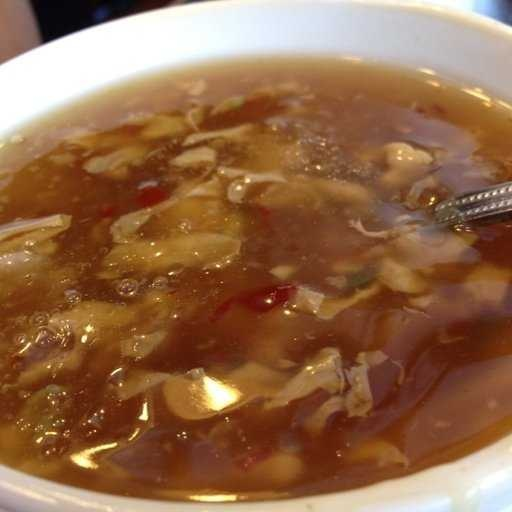soup: (4, 25, 509, 499)
